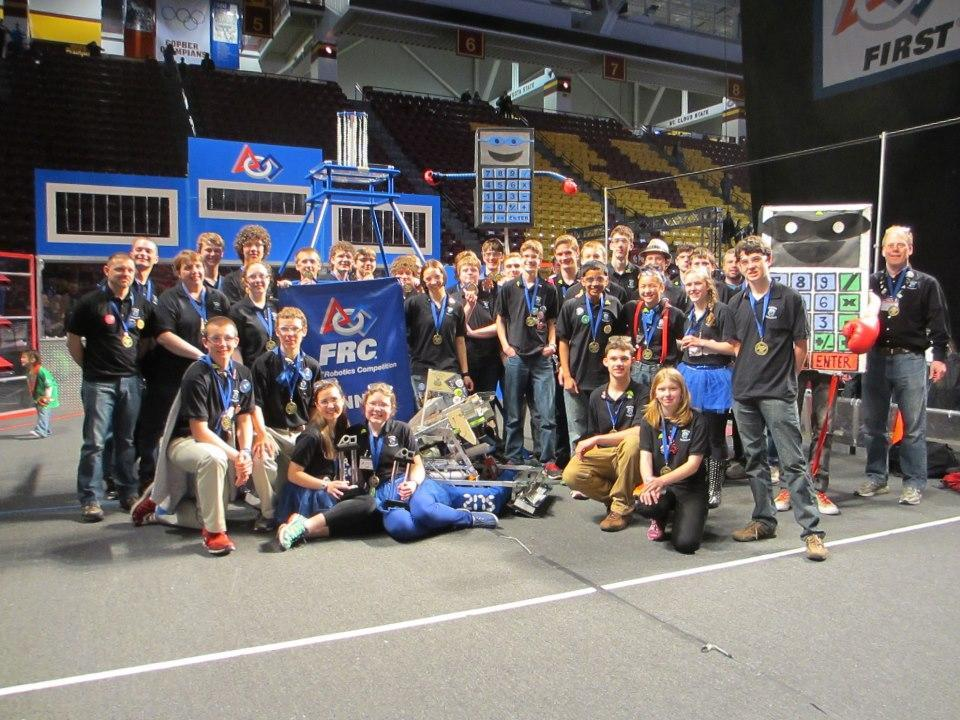robot: (381, 367, 560, 529)
